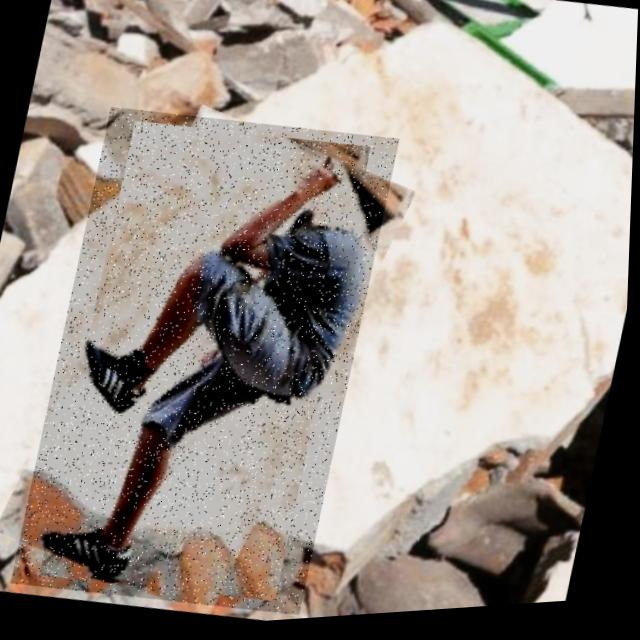Person in Rubble: (13, 93, 402, 634)
